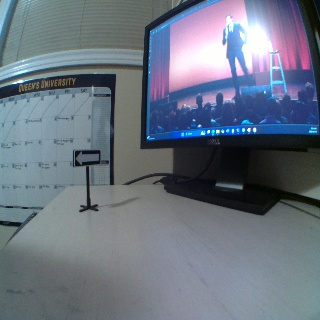sign_oneway_left: (72, 149, 100, 166)
